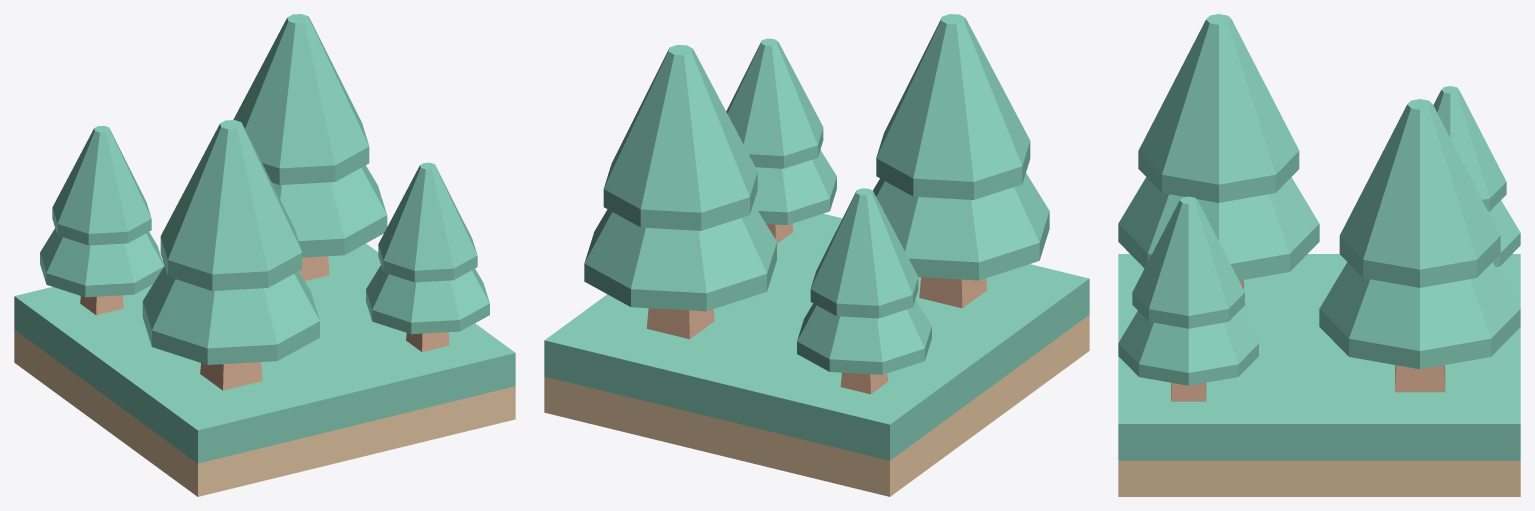
The model's file is tile_treeQuad.glb.
The picture shows the model from 3 angles, left to right: view 1: azimuth 30°, elevation 25°; view 2: azimuth 150°, elevation 25°; view 3: azimuth 270°, elevation 25°; orthographic projection. The views are drawn at different scales.
Parts seen in each view (by area): view 1: tile_treeQuad; view 2: tile_treeQuad; view 3: tile_treeQuad.
Boxes of the visible parts, left/top/right/bottom form: tile_treeQuad: left=14, top=14, right=515, bottom=496; tile_treeQuad: left=544, top=14, right=1089, bottom=496; tile_treeQuad: left=1118, top=14, right=1520, bottom=496.
Bounding box in the file's own units: 1 × 0.96 × 1.
